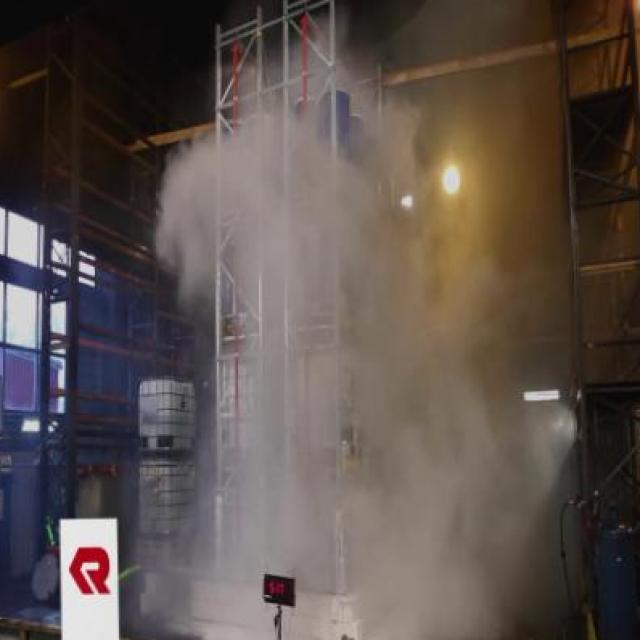fire: (143, 107, 540, 640)
